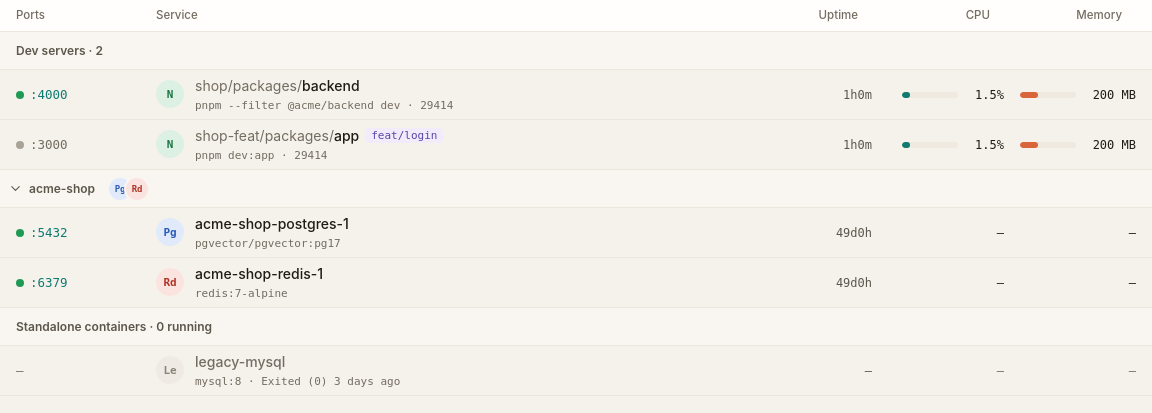
Scenario: ServiceTable › summarises a group whose stats are all null with dashes
Click the button "acme-shop": [54, 188] box [8, 176, 99, 200]
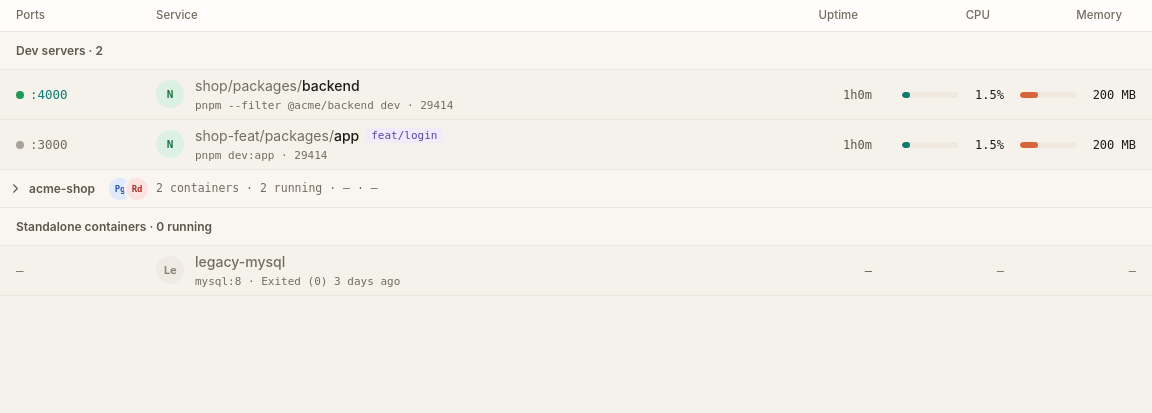
Check: the text with test id "group-summary" reads "2 containers · 2 running · — · —", box [156, 181, 378, 195]
